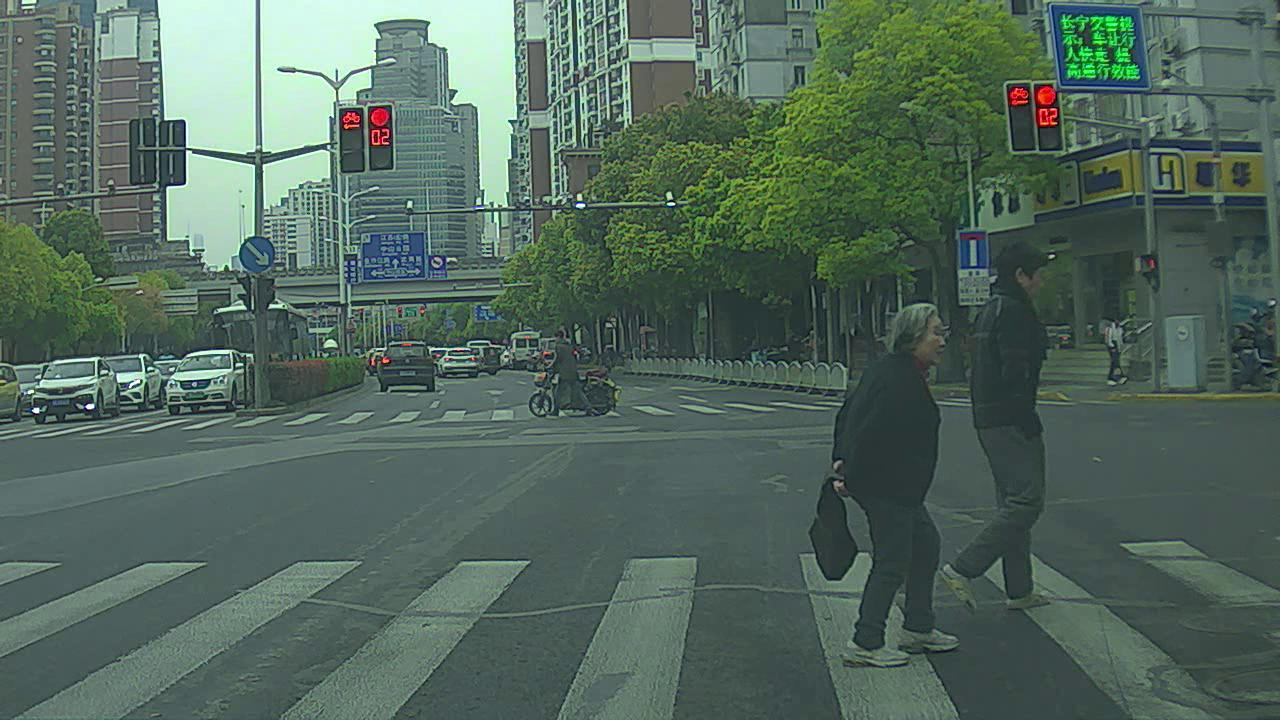traffic_light: (1006, 78, 1040, 152), (366, 102, 397, 171), (1036, 82, 1066, 153), (340, 108, 369, 174)
